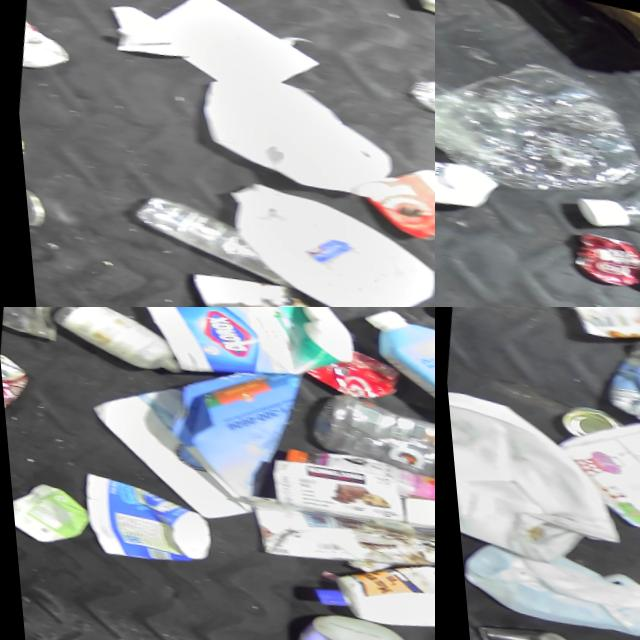can: (357, 147, 435, 247), (562, 220, 640, 288), (14, 13, 77, 79), (549, 396, 622, 446), (457, 611, 575, 640), (0, 350, 33, 421)
milk_jug: (442, 387, 637, 580), (207, 171, 435, 307), (185, 59, 403, 200), (452, 531, 640, 640)
plastic_bottle: (116, 187, 299, 286), (297, 378, 435, 483), (564, 130, 640, 265), (592, 315, 640, 424), (398, 35, 435, 132)
